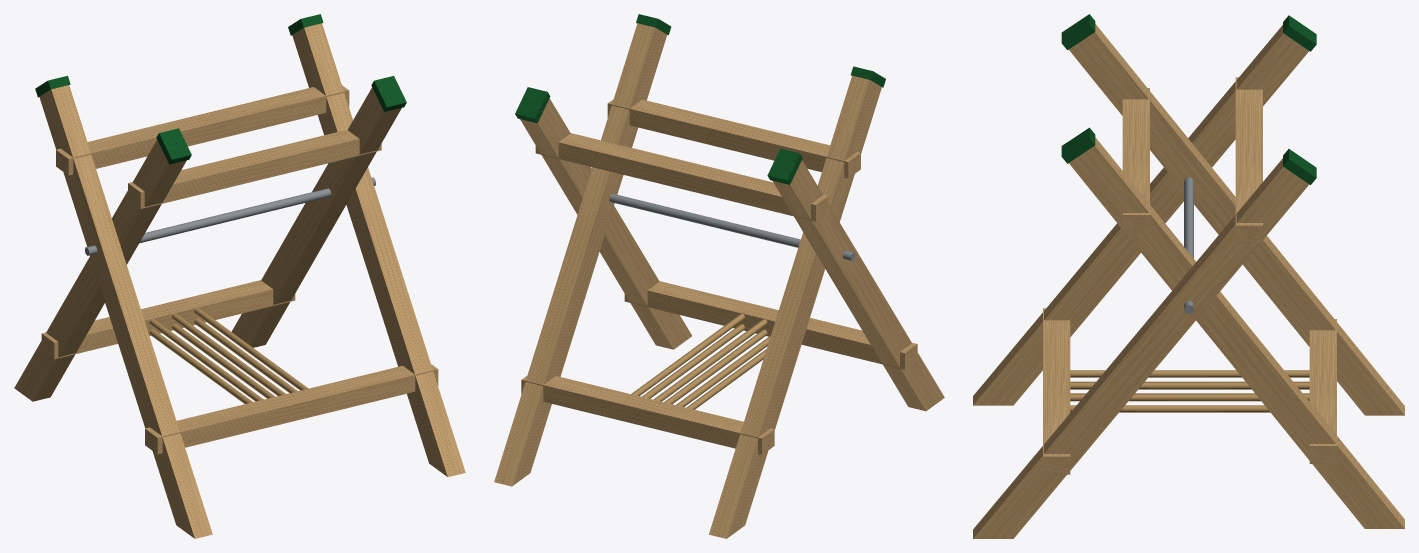
Rendered from stand_oosueashi.glb.
The picture shows the model from 3 angles, left to right: view 1: azimuth 30°, elevation 25°; view 2: azimuth 150°, elevation 25°; view 3: azimuth 270°, elevation 25°; orthographic projection. The views are drawn at different scales.
Parts seen in each view (by area): view 1: Odaiko_Stand; view 2: Odaiko_Stand; view 3: Odaiko_Stand.
Part boxes in pixels (x1,y1,x2,y2): Odaiko_Stand: (14, 14, 465, 538); Odaiko_Stand: (494, 14, 944, 538); Odaiko_Stand: (973, 14, 1404, 538).
Size of the model in its own units: 0.576 by 0.695 by 0.6948.
1 material, 1 textured.
